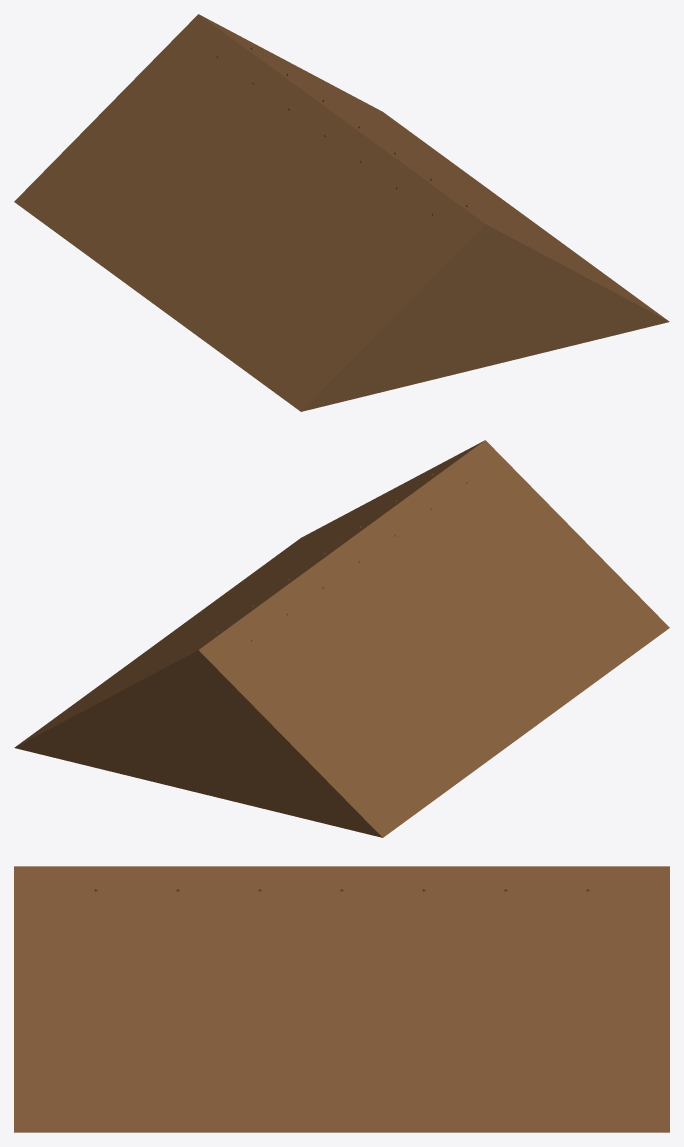
File: cati.fbx
3 views of the same model, one above another, from view 1: azimuth 30°, elevation 25°; view 2: azimuth 150°, elevation 25°; view 3: azimuth 270°, elevation 25° (orthographic). The views are drawn at different scales.
Parts seen in each view (by area): view 1: Cylinder.042; view 2: Cylinder.042; view 3: Cylinder.042.
Part boxes in pixels (x1=…): Cylinder.042: x1=14, y1=14, x2=669, y2=411; Cylinder.042: x1=14, y1=440, x2=669, y2=837; Cylinder.042: x1=14, y1=866, x2=669, y2=1132.
Size of the model in its own units: 2310 by 3113 by 857.
